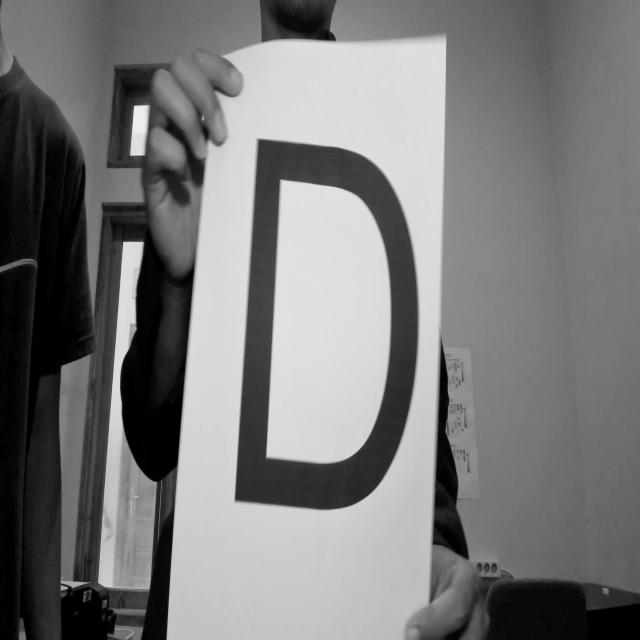d: (229, 121, 424, 532)
